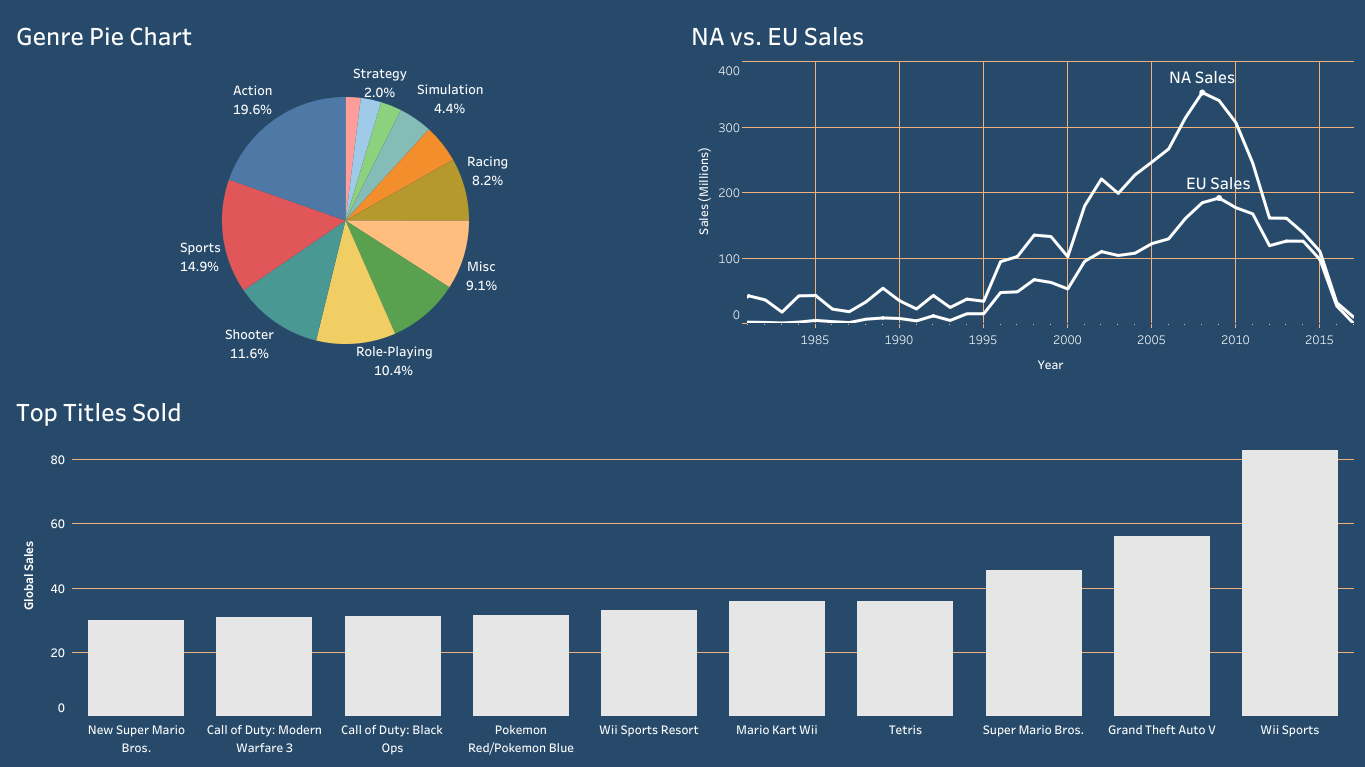

What the dashboard file says about the page in this screenshot:
{"tool":"tableau","page":{"name":"Dashboard 1","canvas":[1366,768],"ordinal":0},"visuals":[{"type":"worksheet","title":"GenreDist","mark":"Pie","box":[8,8,675,376]},{"type":"worksheet","title":"NAvsEU","mark":"Automatic","rows":["EU_Sales","NA_Sales"],"cols":["Year (date)"],"box":[683,8,675,376]},{"type":"worksheet","title":"TitlesSold","mark":"Automatic","rows":["Global_Sales"],"cols":["Name"],"box":[8,384,1350,376]}]}

Visuals, with their boxes in screenshot pixels (x1, y1, x2, y2), scaled from the page's 1366x768 canvas onto the 1365x767 screenshot:
"GenreDist" worksheet (Pie marks): (8,8,682,384)
"NAvsEU" worksheet: (682,8,1357,384)
"TitlesSold" worksheet: (8,384,1357,759)
